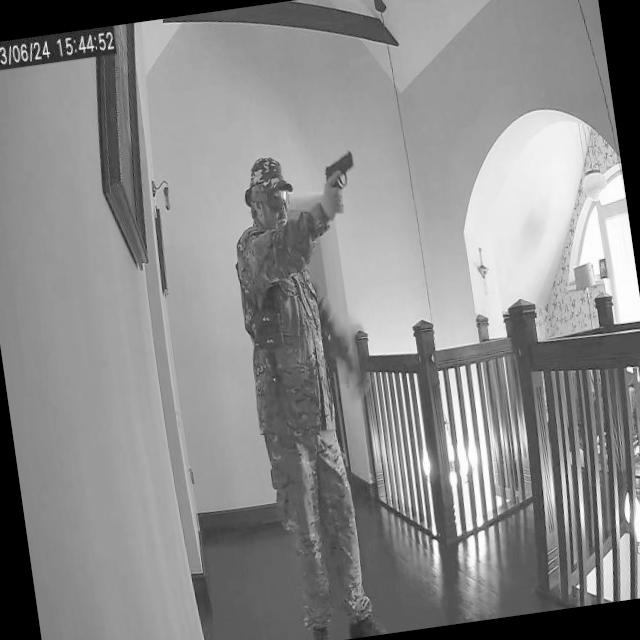gun: (322, 148, 361, 198)
person with a gun: (220, 141, 423, 640)
